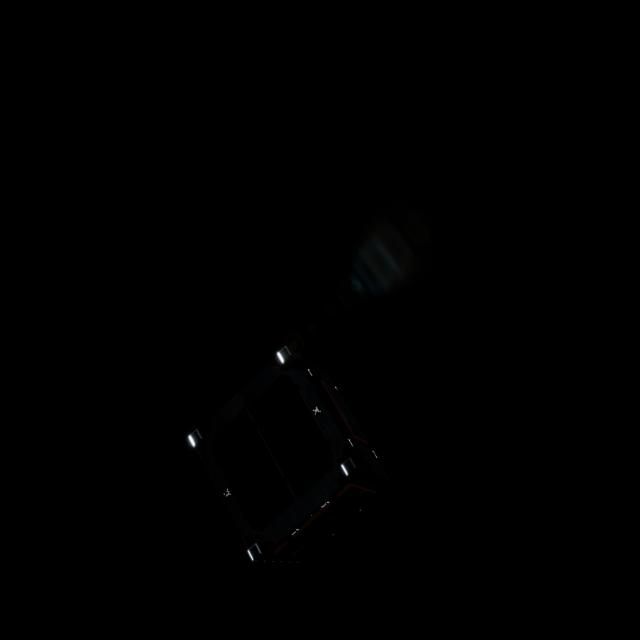medium_debris: (188, 340, 376, 560)
